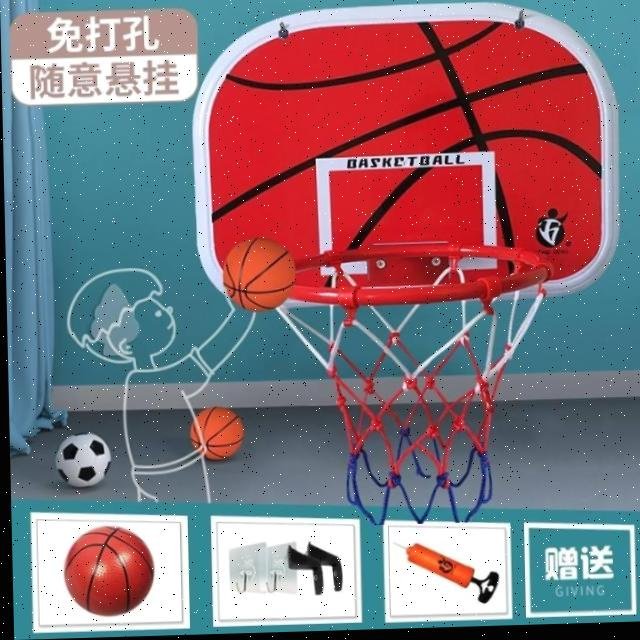basketball: (63, 523, 155, 618), (222, 239, 298, 313), (189, 407, 245, 461)
hoop: (292, 247, 560, 524)
